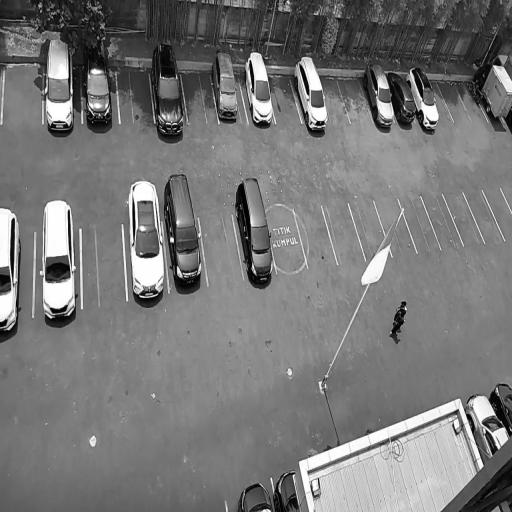Car: (124, 173, 168, 319), (37, 192, 80, 336), (231, 173, 279, 289), (160, 174, 204, 298), (148, 44, 188, 138), (462, 389, 511, 465), (42, 33, 78, 136), (289, 53, 333, 135), (81, 32, 114, 128), (404, 60, 446, 135), (239, 46, 277, 127), (0, 205, 21, 345), (471, 56, 512, 125), (360, 61, 399, 131), (210, 48, 244, 127), (385, 68, 419, 127), (230, 476, 277, 512), (487, 379, 512, 438), (273, 467, 301, 512)
Space Available: (81, 226, 127, 306), (199, 215, 245, 285), (321, 202, 366, 264), (294, 206, 338, 268), (266, 210, 308, 273), (348, 201, 392, 260), (1, 62, 43, 122), (398, 196, 441, 254), (374, 199, 417, 255), (421, 194, 463, 250), (116, 65, 155, 125), (443, 192, 485, 245), (463, 191, 505, 244), (181, 71, 218, 123), (268, 74, 301, 127), (337, 77, 372, 124), (483, 186, 512, 240), (436, 80, 470, 122), (320, 76, 350, 123), (429, 79, 453, 126)
